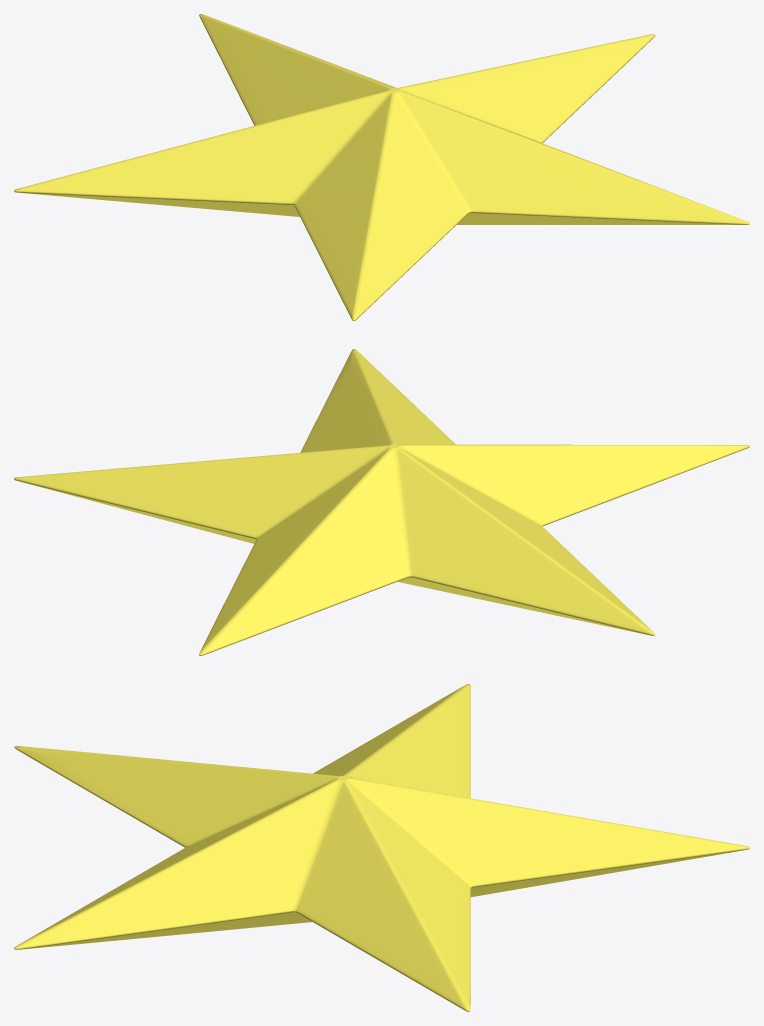
Rendered from star.fbx.
3 renders of one model, top to bottom at view 1: azimuth 30°, elevation 25°; view 2: azimuth 150°, elevation 25°; view 3: azimuth 270°, elevation 25°, orthographic. The views are drawn at different scales.
Parts seen in each view (by area): view 1: Cube; view 2: Cube; view 3: Cube.
Part boxes in pixels (x1,y1,x2,y2): Cube: (14,14,749,320); Cube: (14,349,749,655); Cube: (14,684,749,1011).
Bounding box in the file's own units: 312 × 62.19 × 297.
